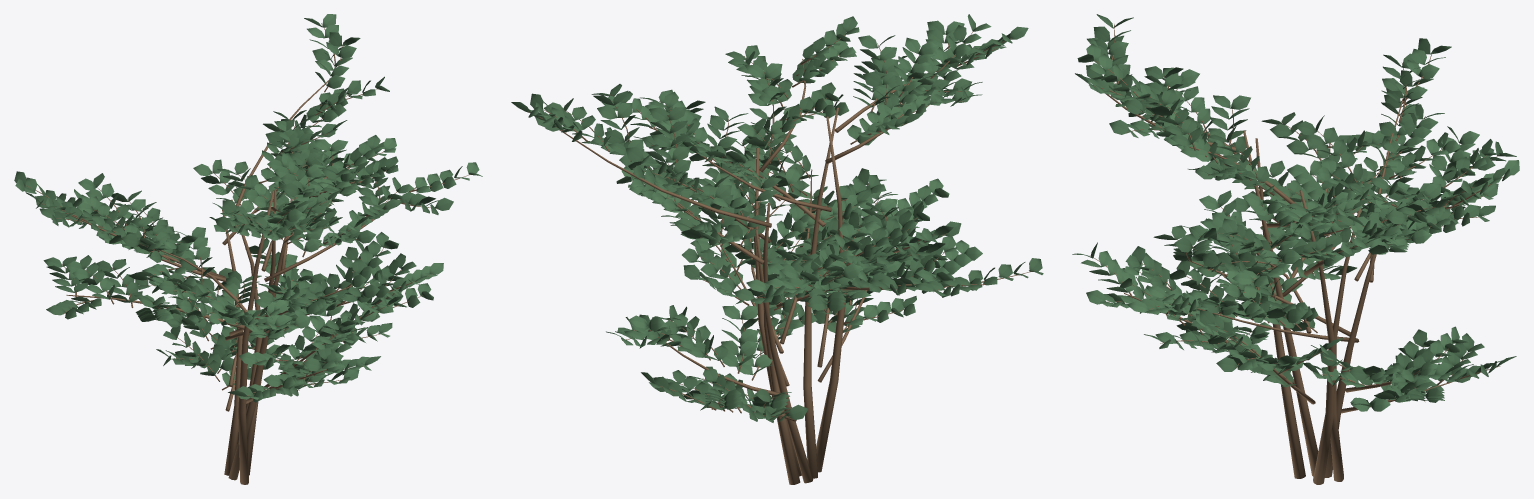
File: Myrte_0_LOD0.fbx
3 views of the same model, side by side, from view 1: azimuth 30°, elevation 25°; view 2: azimuth 150°, elevation 25°; view 3: azimuth 270°, elevation 25° (orthographic). The views are drawn at different scales.
Parts seen in each view (by area): view 1: Myrte_0_LOD0; view 2: Myrte_0_LOD0; view 3: Myrte_0_LOD0.
Boxes of the visible parts, left/top/right/bottom form: Myrte_0_LOD0: left=14, top=14, right=482, bottom=484; Myrte_0_LOD0: left=511, top=14, right=1043, bottom=484; Myrte_0_LOD0: left=1072, top=14, right=1519, bottom=484.
Size of the model in its own units: 233 by 193 by 191.
